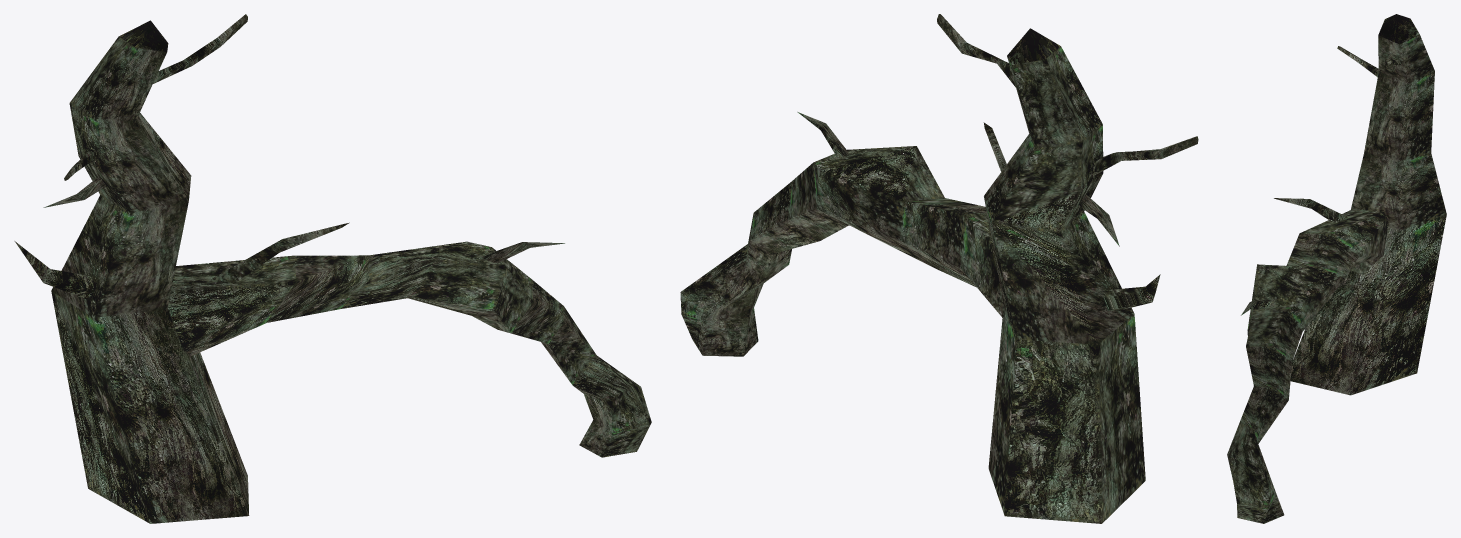
File: stage-amaz-p3-1084.glb
The picture shows the model from 3 angles, left to right: view 1: azimuth 30°, elevation 25°; view 2: azimuth 150°, elevation 25°; view 3: azimuth 270°, elevation 25°; orthographic projection. The views are drawn at different scales.
Size of the model in its own units: 43.16 by 34.58 by 19.36.
1 material, 1 textured.
